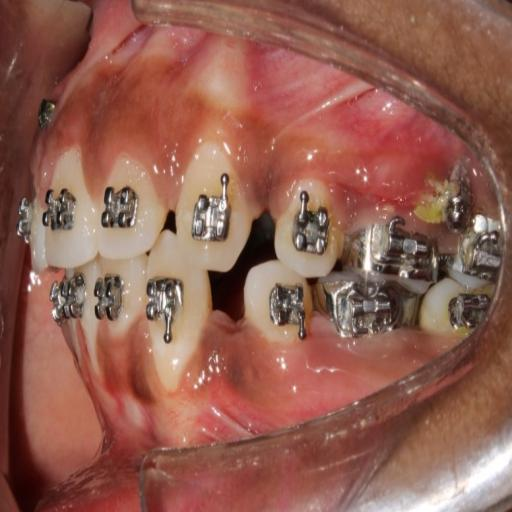correct_brace: (273, 174, 342, 284), (102, 178, 139, 236), (41, 182, 81, 235), (193, 199, 233, 243)
incorrect_brace: (96, 155, 162, 262), (290, 199, 328, 259)
